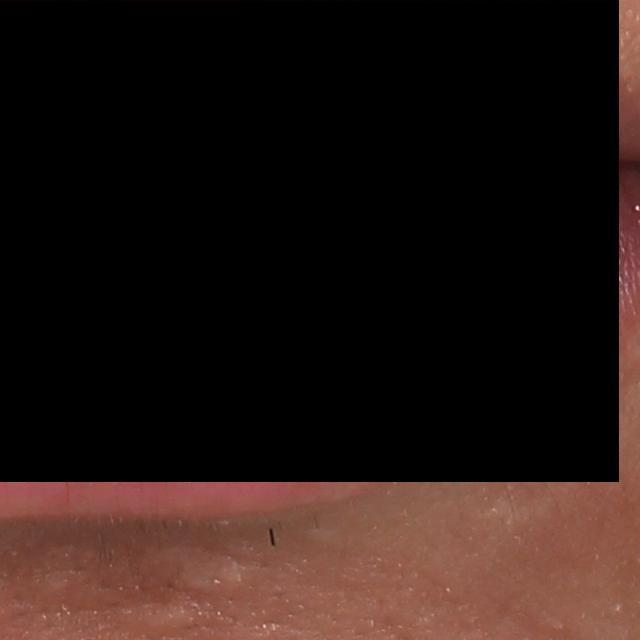hypertrophic_scar: (139, 546, 265, 591), (118, 600, 198, 636), (299, 525, 344, 544)
